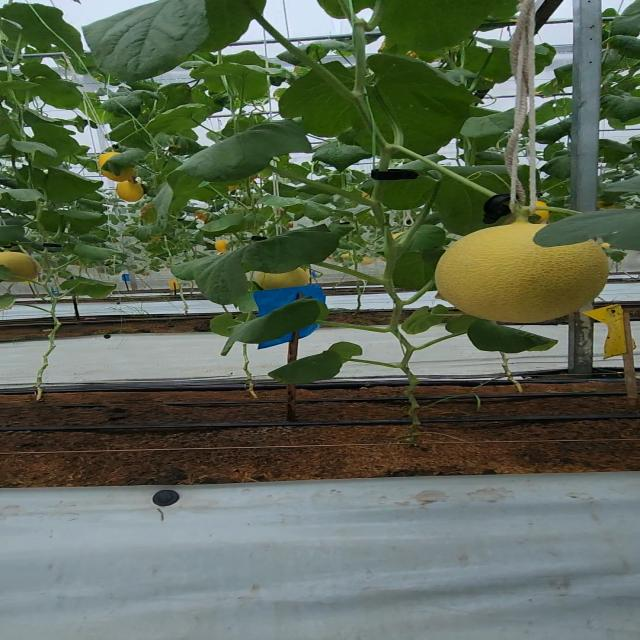Melon: (428, 220, 622, 328)
